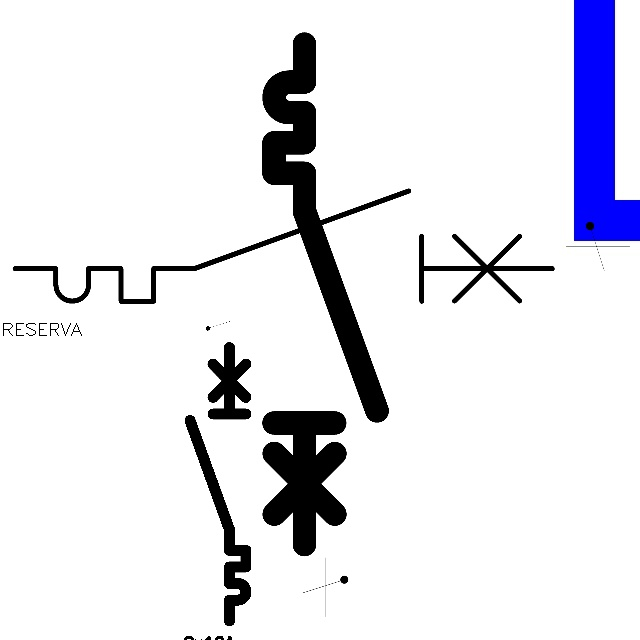interruptor_termomagnetico: (1, 177, 566, 315), (261, 31, 390, 557), (183, 340, 253, 627)
